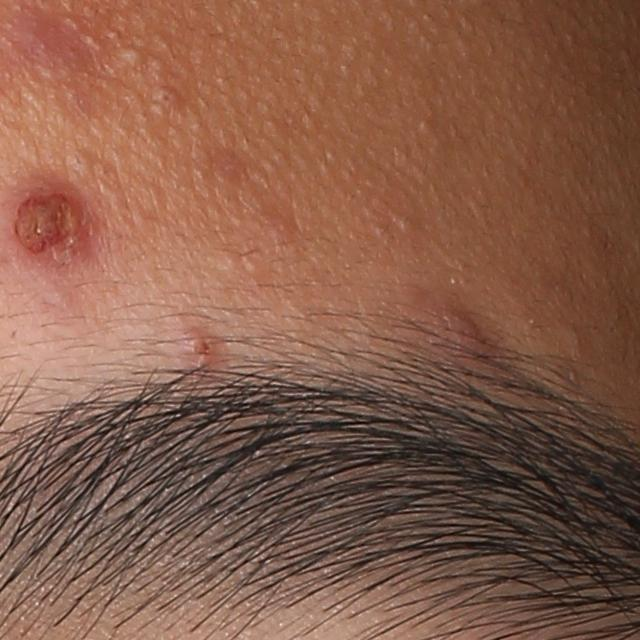comedo: (152, 86, 182, 111), (119, 44, 147, 69)
papule: (5, 182, 92, 267), (412, 305, 490, 365), (180, 322, 224, 383)
